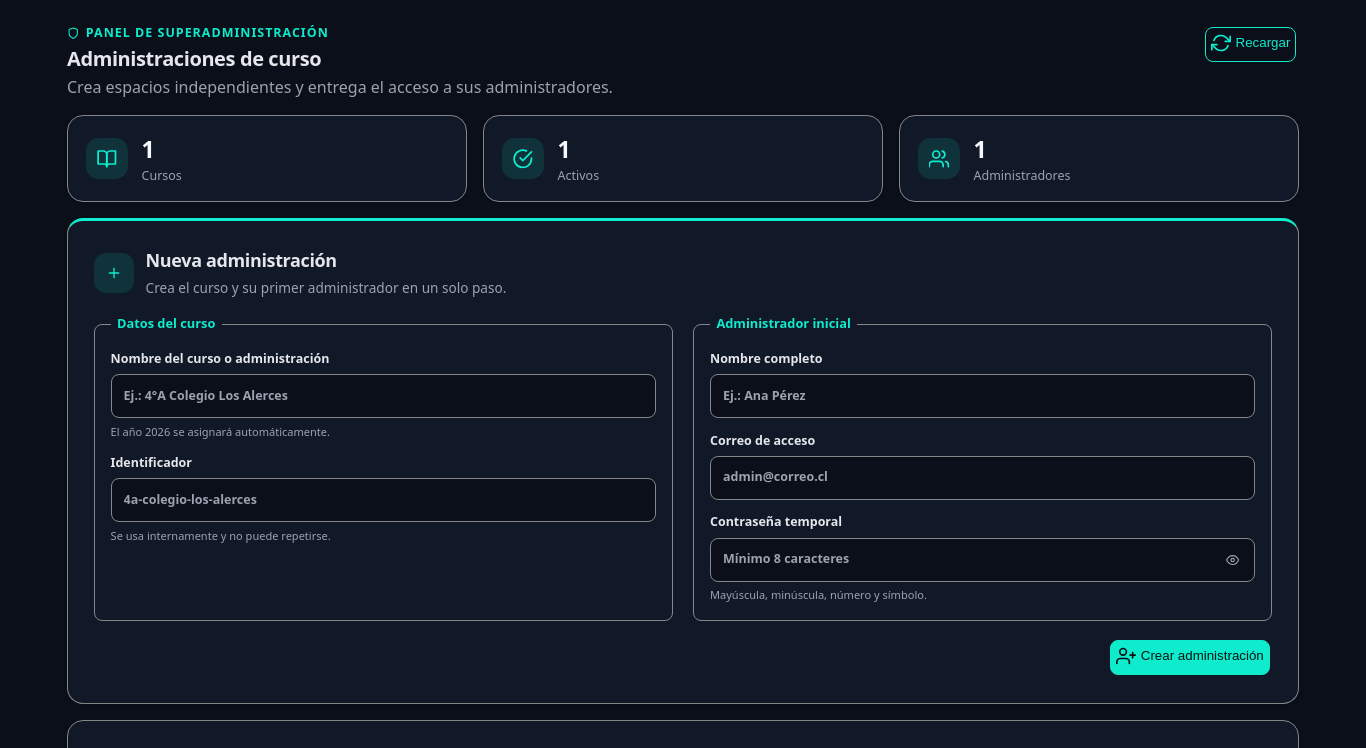
Test: course administration through HTTP › preserves an explicitly edited slug when the course name changes
In the field labelled "Nombre del curso o administración": (383, 396) 111,374 -> 656,418, type "Séptimo B"
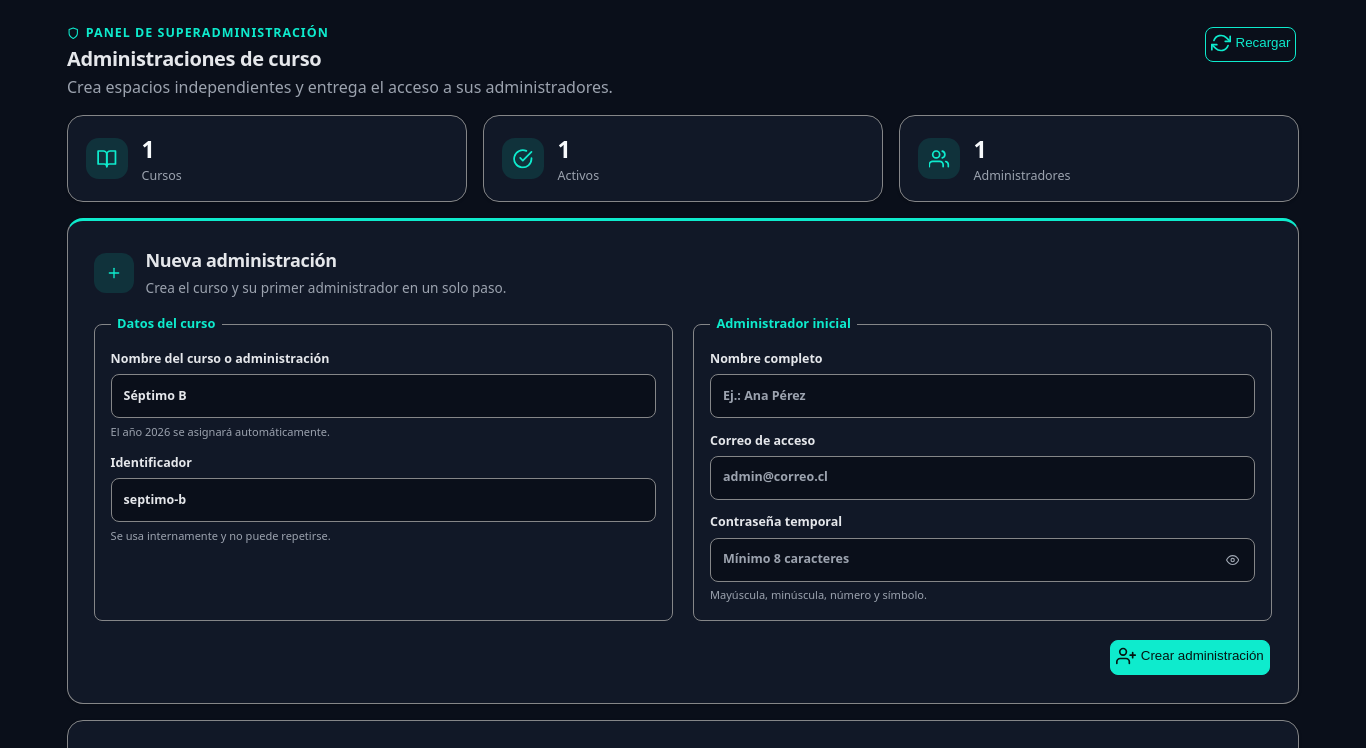
In the field labelled "Nombre completo": (983, 396) 710,374 -> 1255,418, type "  Ana Pérez  "
In the field labelled "Correo de acceso": (983, 478) 710,456 -> 1255,500, type "ANA@EXAMPLE.CL"
In the password field labelled "Contraseña temporal": (983, 560) 710,538 -> 1255,582, type "ValidPass1!"
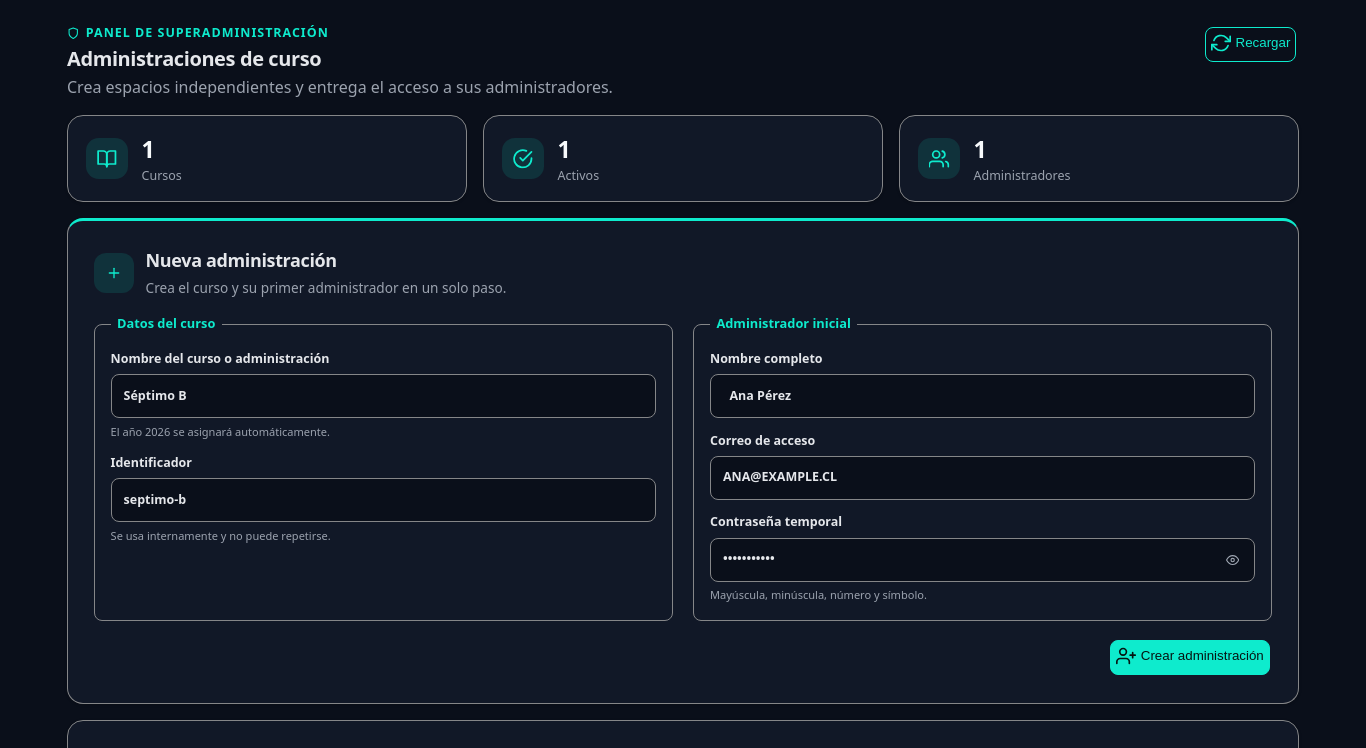
Replace the text in the field labelled "Identificador" with "Mi Curso!": (383, 500) 111,478 -> 656,522
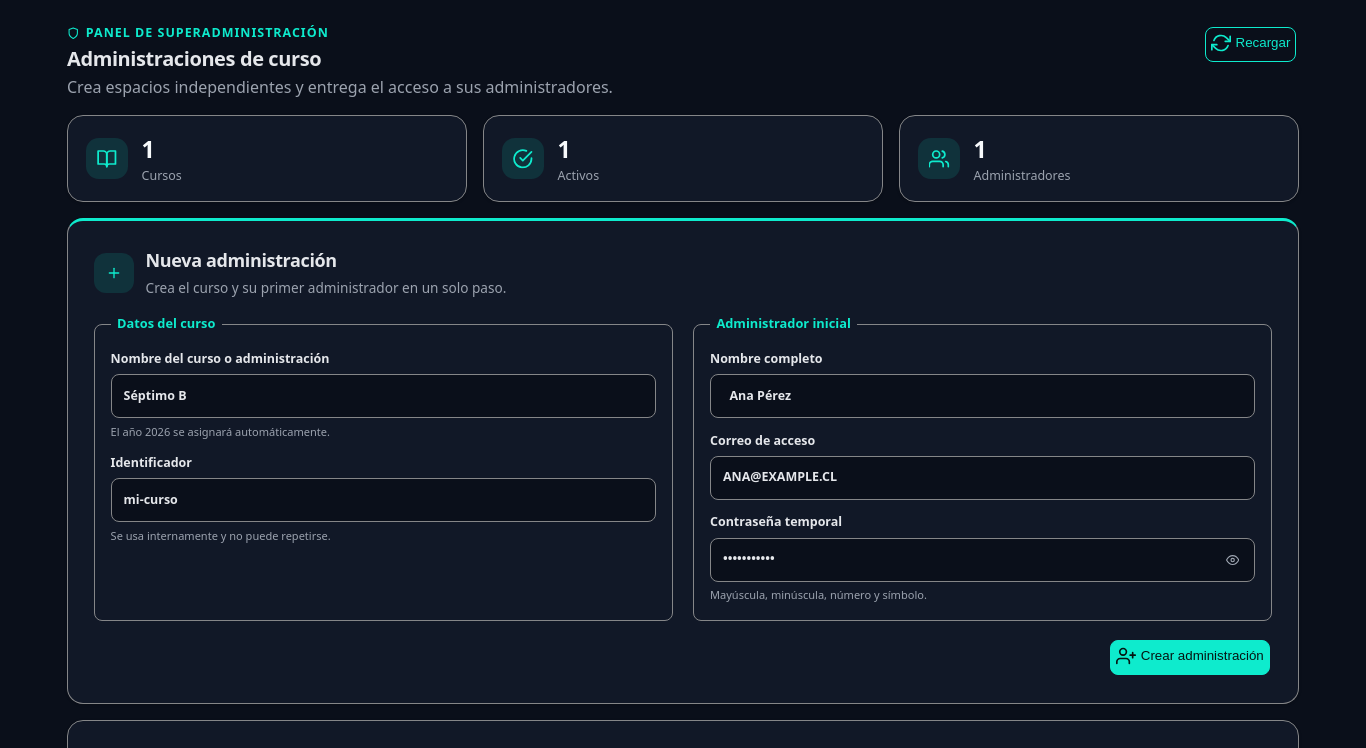
Replace the text in the field labelled "Nombre del curso o administración" with "Otro nombre": (383, 396) 111,374 -> 656,418
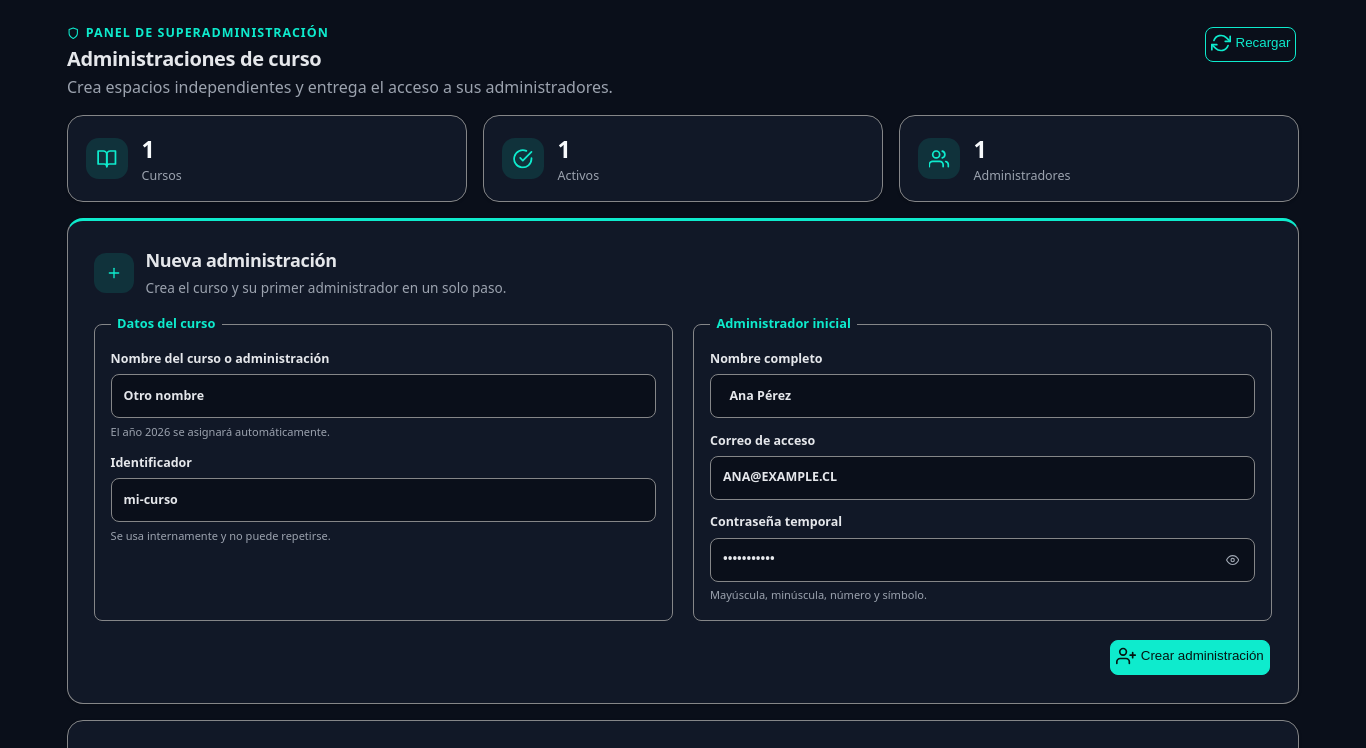
expect the field labelled "Identificador" holds "mi-curso": met, box 111,478 -> 656,522
Click the button named "Mostrar contraseña": (1232, 560) 1215,542 -> 1250,577
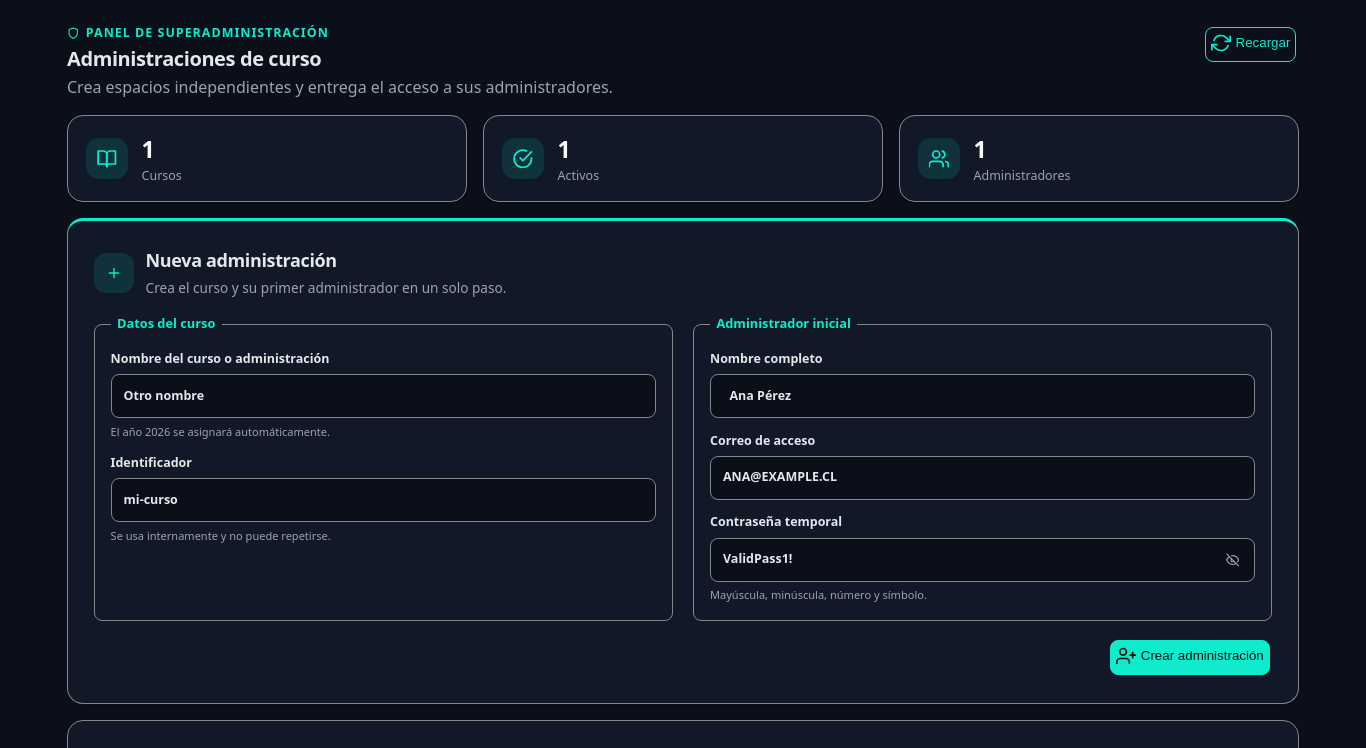
expect the field labelled "Contraseña temporal" shows its text: met, box 710,538 -> 1255,582
Click the button named "Ocultar contraseña": (1232, 560) 1215,542 -> 1250,577
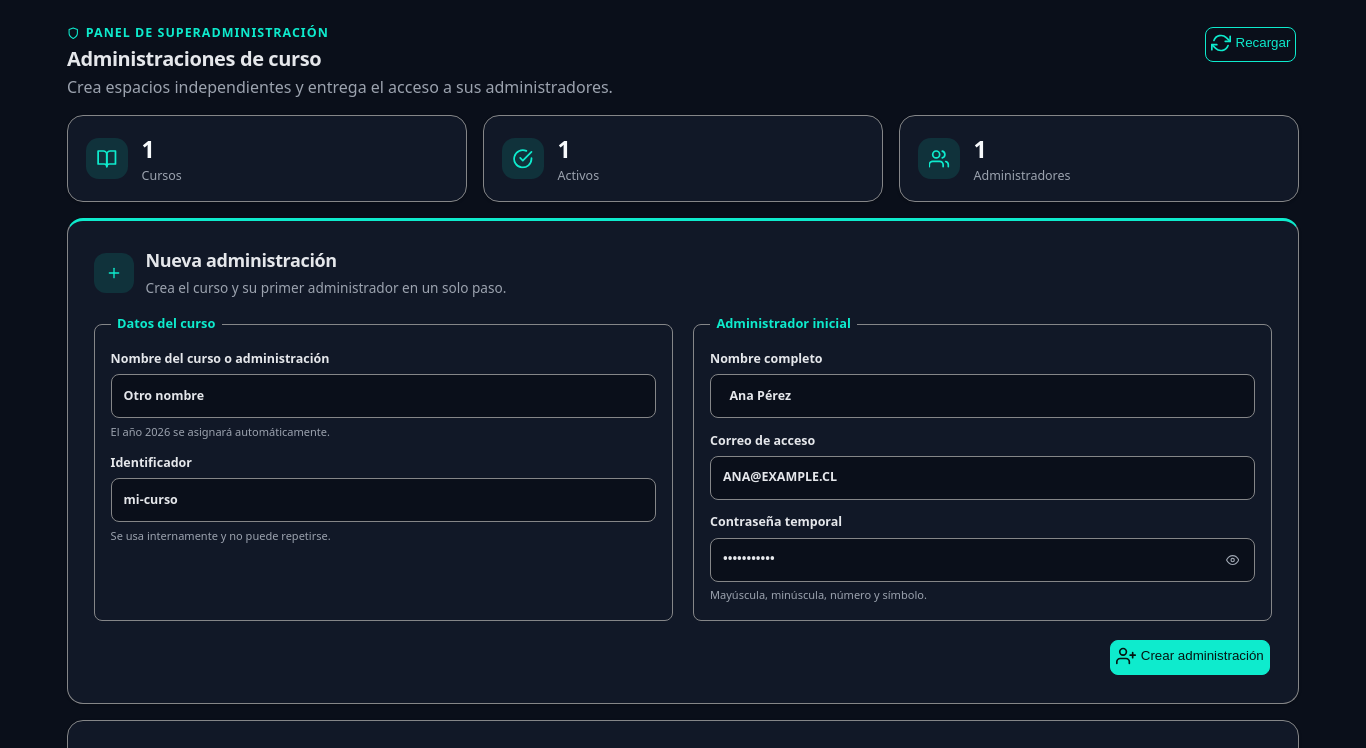
expect the password field labelled "Contraseña temporal" hides its text: met, box 710,538 -> 1255,582
